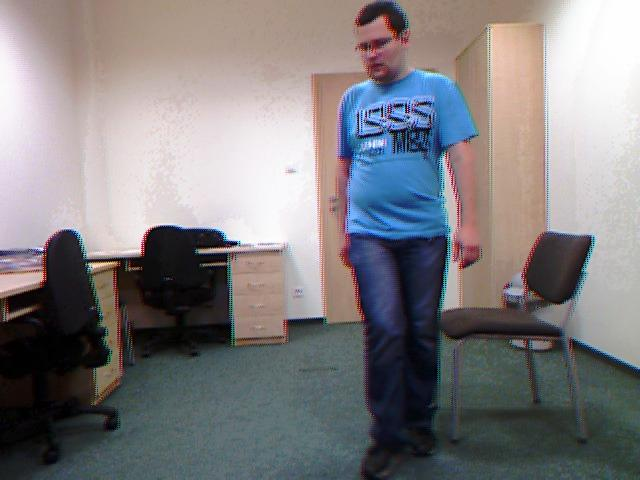walking: (309, 0, 486, 479)
